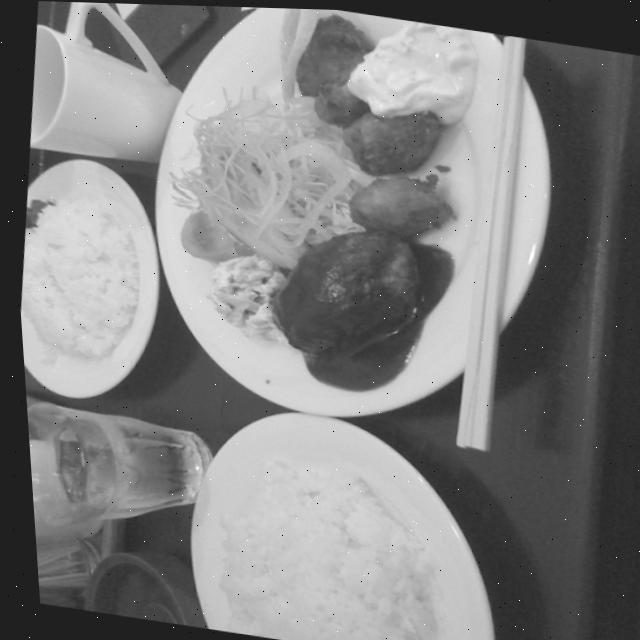米饭主食: (156, 393, 516, 640), (8, 149, 175, 416)
蔬菜料理: (157, 72, 388, 280)
鸡肉料理 含炸鸡: (260, 6, 481, 245)
